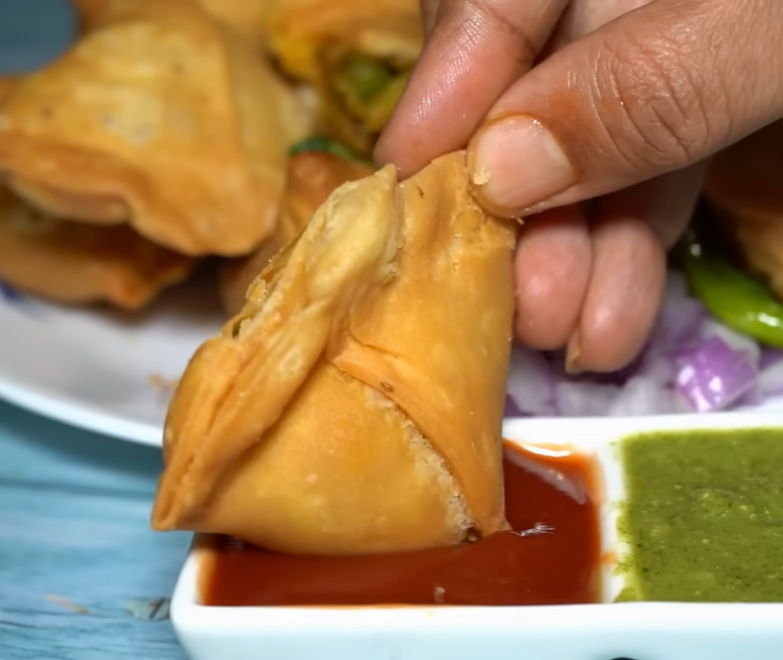samosa: (161, 147, 553, 556), (0, 0, 259, 253)
